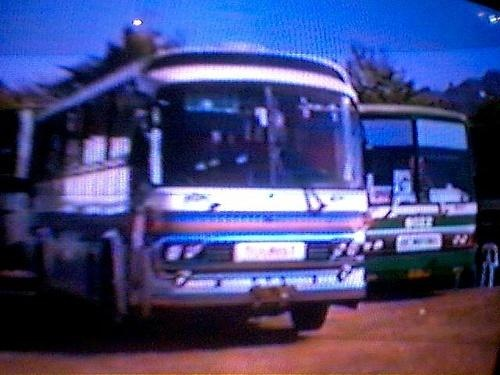bus: (33, 46, 369, 330), (369, 103, 475, 283)
